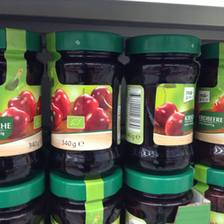jam: (46, 31, 124, 180), (126, 34, 203, 175), (1, 28, 44, 187)
